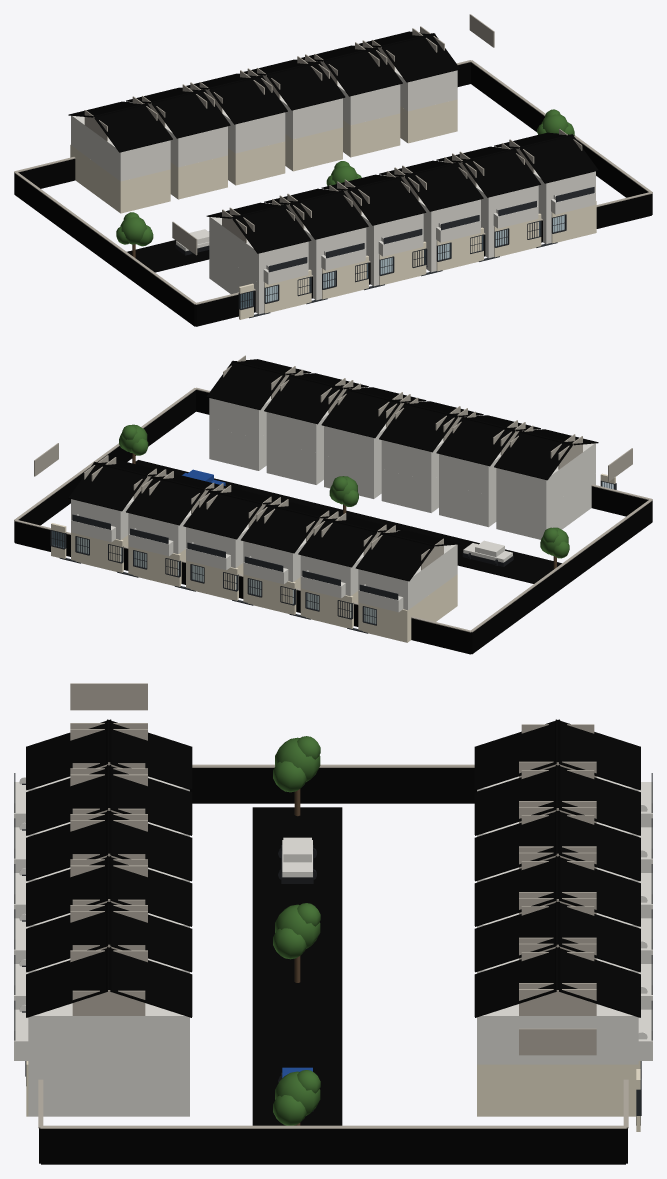
The model's file is mid_housing.glb.
The picture shows the model from 3 angles, top to bottom: view 1: azimuth 30°, elevation 25°; view 2: azimuth 150°, elevation 25°; view 3: azimuth 270°, elevation 25°; orthographic projection. The views are drawn at different scales.
Visible parts, largest first — view 1: object 723, balcony (×6), object 362, object 363, object 724, object 3, object 305, object 364, object 604, object 484, object 544, object 664 (+54 smaller); view 2: object 723, balcony (×6), street, object 3, object 2, object 722, object 363, object 724, object 365, object 304, object 4, object 545 (+48 smaller); view 3: street, object 724, object 723, object 303, object 302, object 662, object 663, object 304, object 305, object 364, object 365, object 4 (+33 smaller).
Boxes of the visible parts, box(x1,y1,x2,y2) form: object 723: box(14, 173, 195, 326); balcony (×6): box(263, 192, 595, 284); object 362: box(71, 145, 170, 213); object 363: box(71, 115, 170, 181); object 724: box(471, 62, 652, 214); object 3: box(209, 217, 308, 282); object 305: box(518, 134, 598, 183); object 364: box(93, 103, 172, 152); object 604: box(323, 47, 402, 96); object 484: box(208, 75, 287, 124); object 544: box(265, 61, 345, 110); object 664: box(380, 33, 460, 82); object 723: box(471, 501, 652, 654); balcony (×6): box(71, 520, 403, 612); street: box(135, 460, 561, 583); object 3: box(496, 443, 595, 508); object 2: box(496, 473, 595, 539); object 722: box(15, 521, 471, 654); object 363: box(358, 544, 457, 610); object 724: box(14, 390, 195, 542); object 365: box(355, 532, 435, 581); object 304: box(206, 360, 285, 409); object 4: box(494, 430, 573, 480); object 545: box(183, 490, 262, 539); street: box(252, 807, 342, 1125); object 724: box(41, 1129, 625, 1164); object 723: box(190, 768, 476, 803); object 303: box(28, 1003, 189, 1064); object 302: box(28, 1064, 189, 1116); object 662: box(477, 1064, 638, 1116); object 663: box(477, 1004, 638, 1064); object 304: box(106, 947, 192, 1017); object 305: box(26, 947, 111, 1017); object 364: box(474, 719, 560, 790); object 365: box(555, 719, 640, 790); object 4: box(106, 719, 192, 790).
Size of what is drawn, in the model's own units: 47.88 by 7.96 by 35.6.
